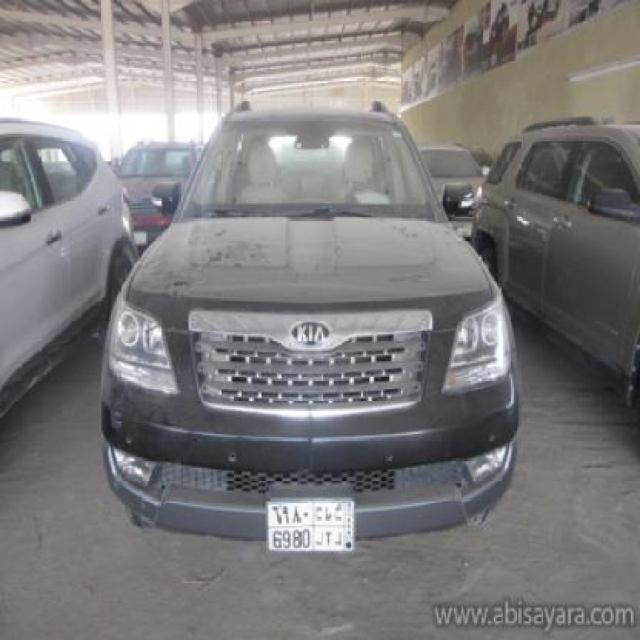license_plate: (265, 496, 358, 555)
